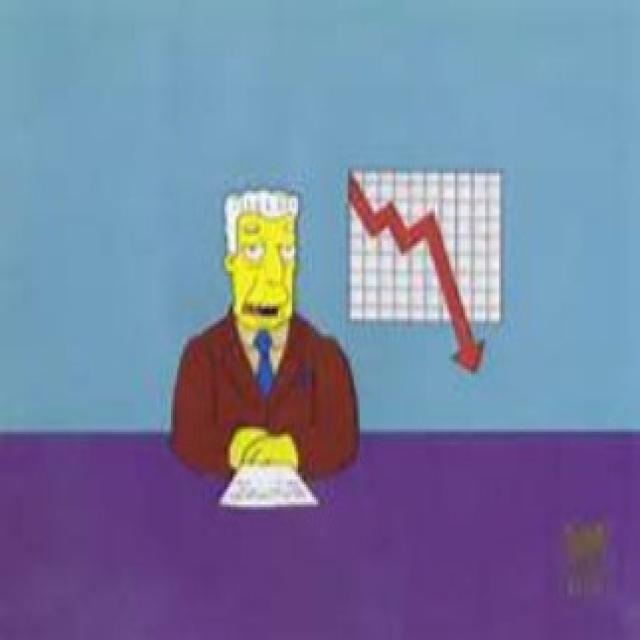Kent Brockman: (221, 188, 304, 334)
